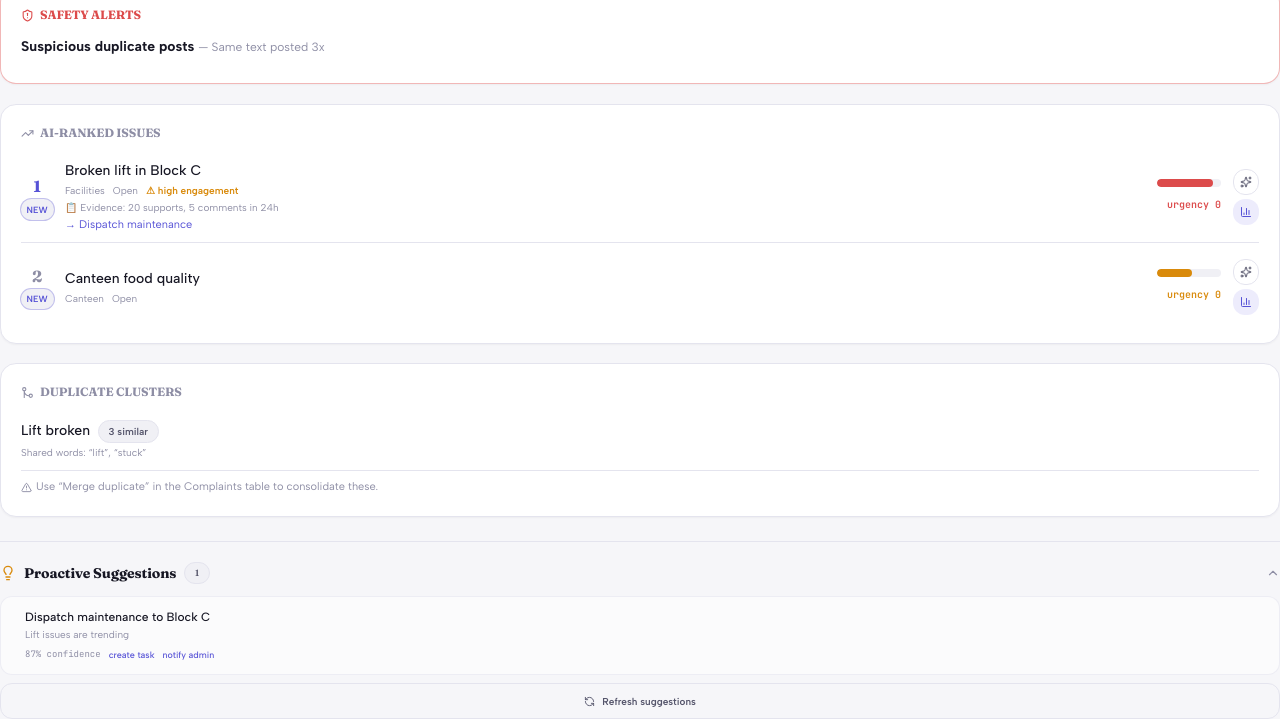
Test: AiPanel (AI Analysis) › collapses and expands the proactive suggestions section
(page scrolled)
Check: the heading "Proactive Suggestions 1" is shown, box [0,562,210,584]
Click the button "Proactive Suggestions 1" at (100,573), box [0,562,1279,584]
(page scrolled)
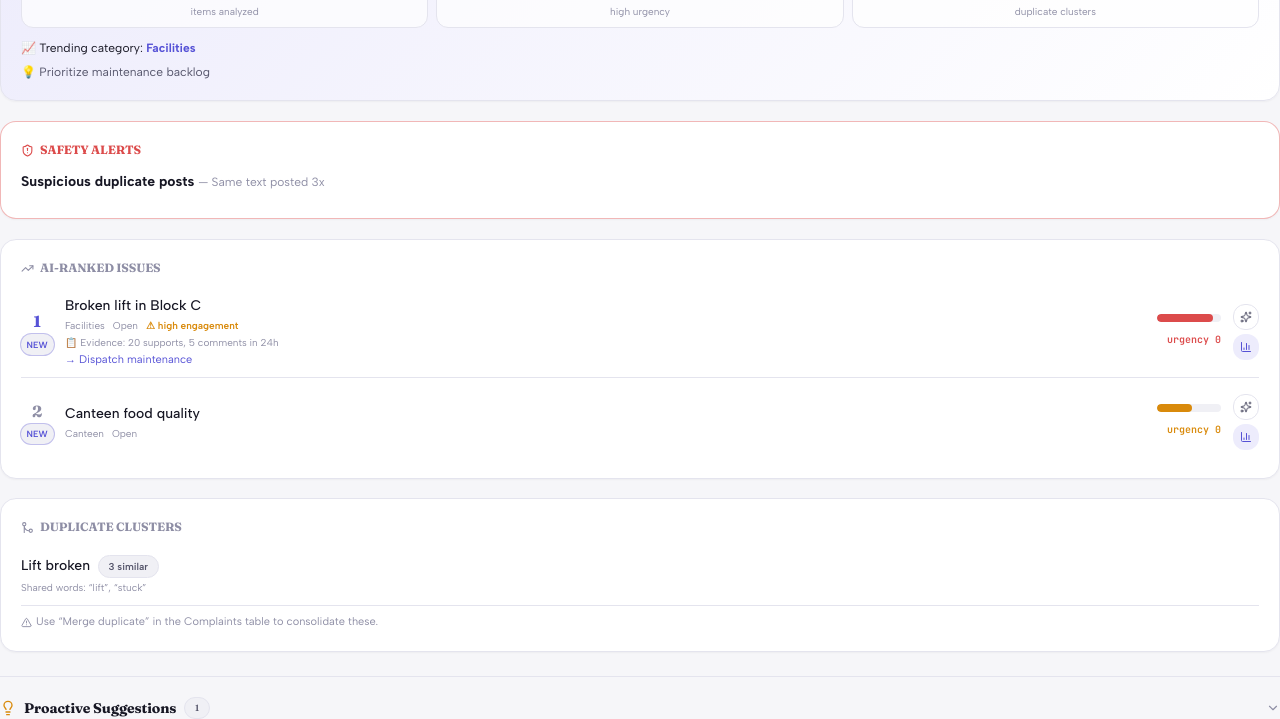
Check: the text "Dispatch maintenance to Block C" is gone
Click the button "Proactive Suggestions 1" at (100,708), box [0,697,1279,718]
(page scrolled)
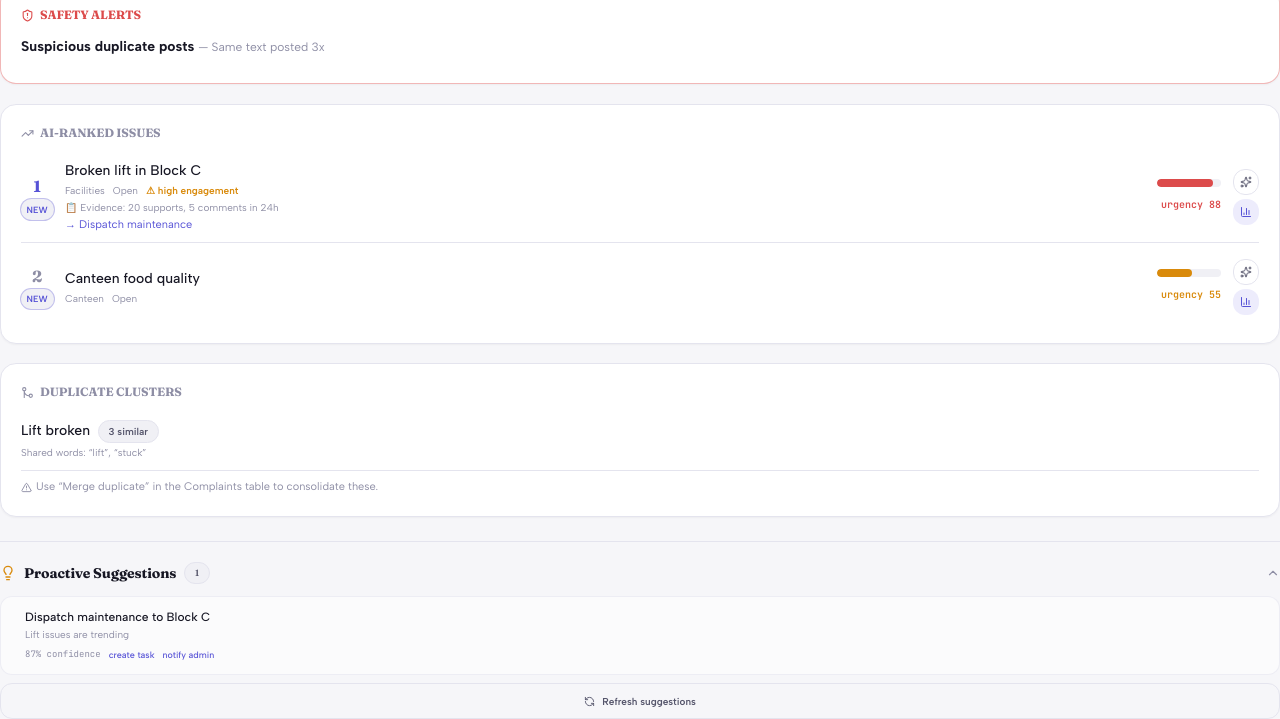
Check: the text "Dispatch maintenance to Block C" is shown, box [25,610,210,624]
